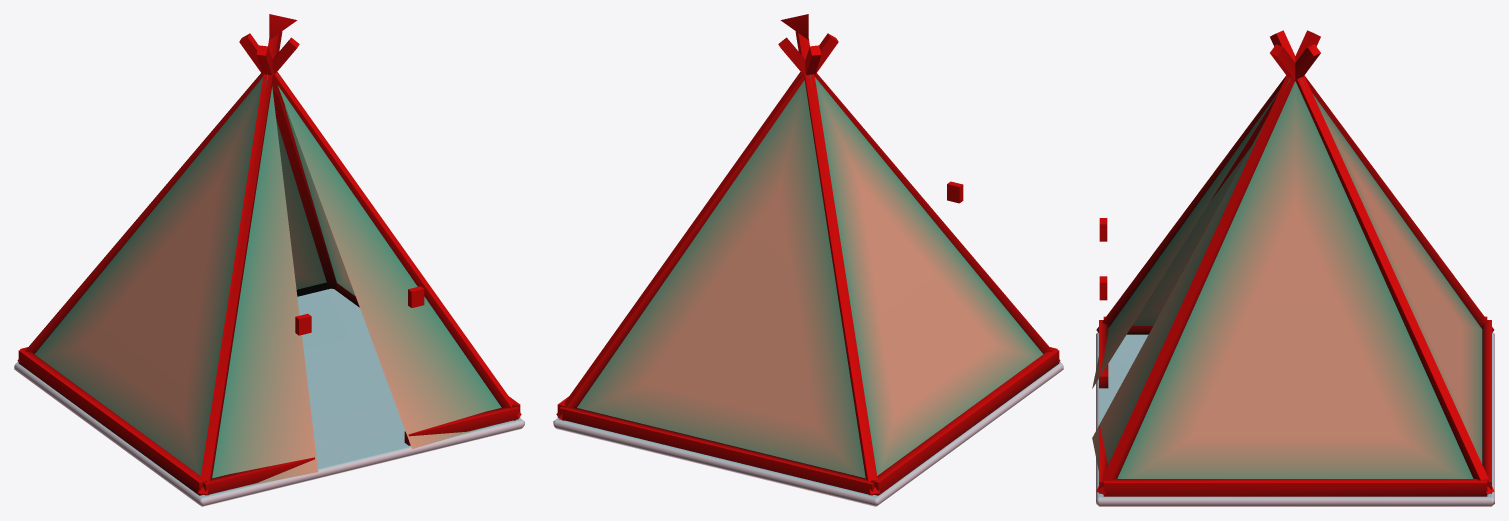
File: CI_Kids_PlayTent.glb
The picture shows the model from 3 angles, left to right: view 1: azimuth 30°, elevation 25°; view 2: azimuth 150°, elevation 25°; view 3: azimuth 270°, elevation 25°; orthographic projection. The views are drawn at different scales.
Visible parts, largest first — view 1: CI_Kids_PlayTent; view 2: CI_Kids_PlayTent; view 3: CI_Kids_PlayTent.
Boxes of the visible parts, box(x1,y1,x2,y2) form: CI_Kids_PlayTent: box(14, 14, 524, 506); CI_Kids_PlayTent: box(553, 14, 1063, 506); CI_Kids_PlayTent: box(1092, 30, 1494, 506).
Size of the model in its own units: 1.04 by 1.18 by 1.05.
